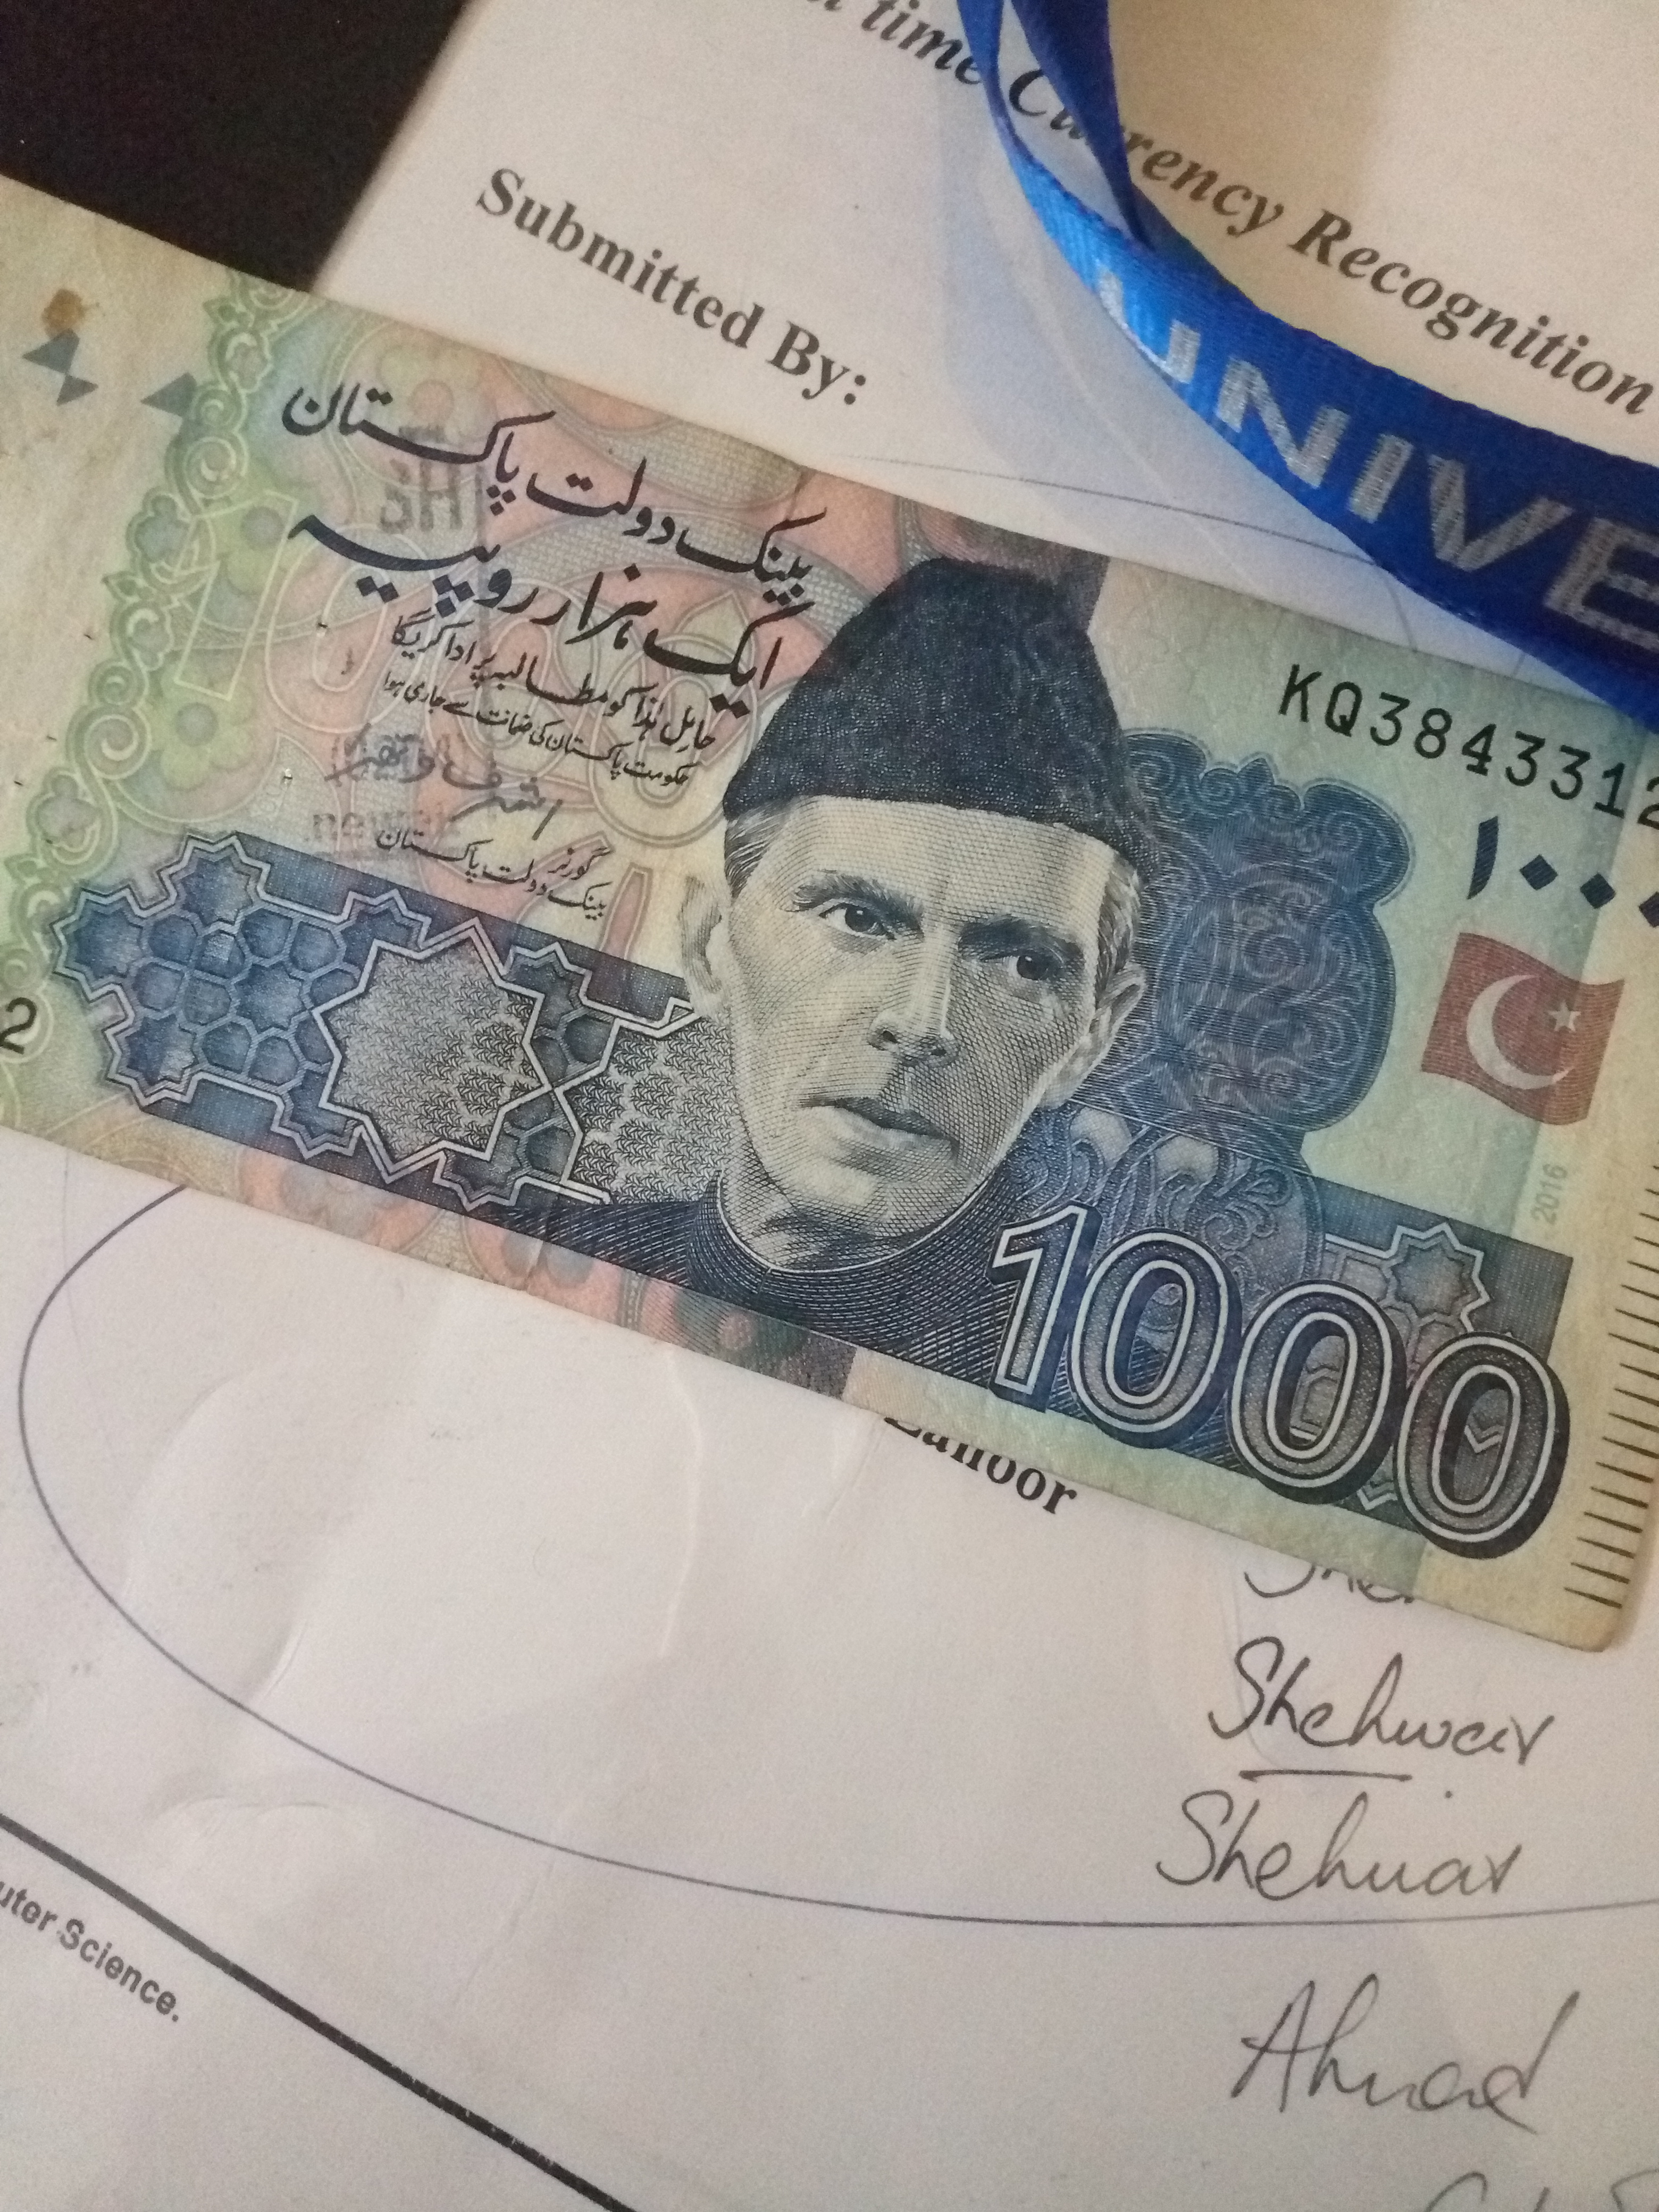1000 rupee: (77, 132, 1659, 1653), (901, 1101, 1638, 1576)
